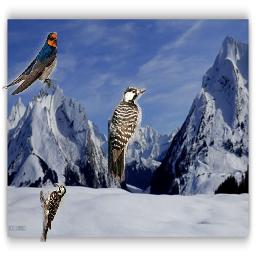Swallow: (3, 33, 58, 96)
Woodpecker: (108, 87, 146, 183), (40, 184, 66, 243)
